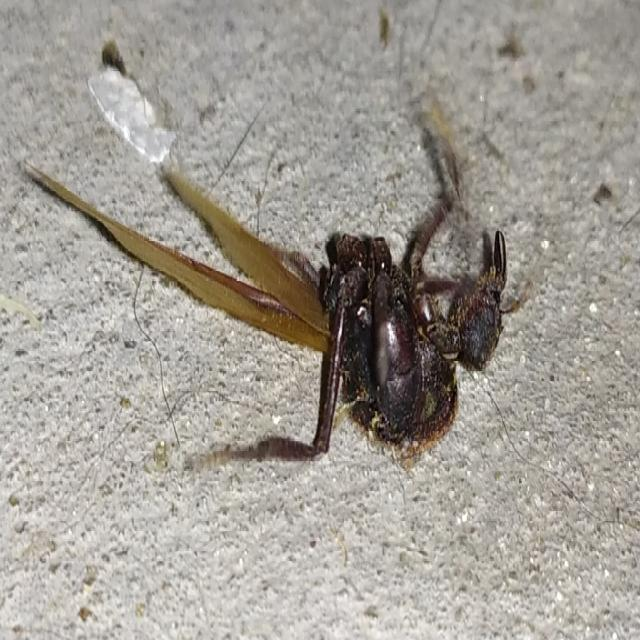Dead-Female-Alate: (24, 124, 531, 473)
